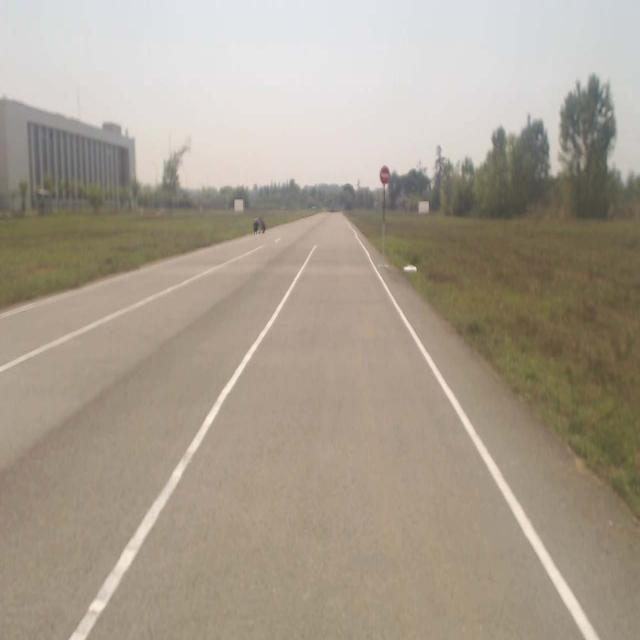girisyok: (380, 166, 390, 183)
